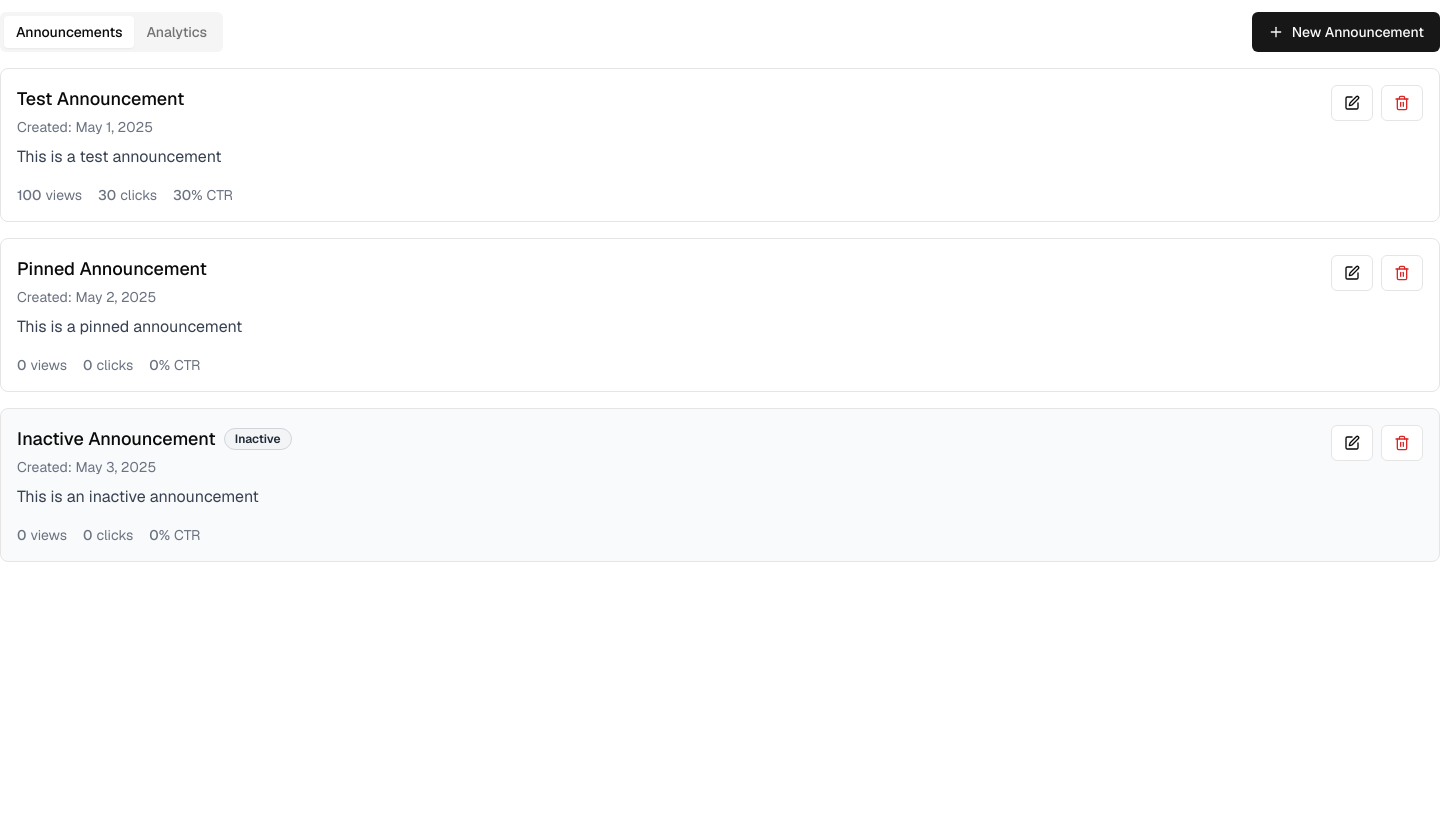
Test: AnnouncementManagement › allows deleting an announcement
Click the 3rd button at coordinates (1402, 103), box [1381,85,1423,121]
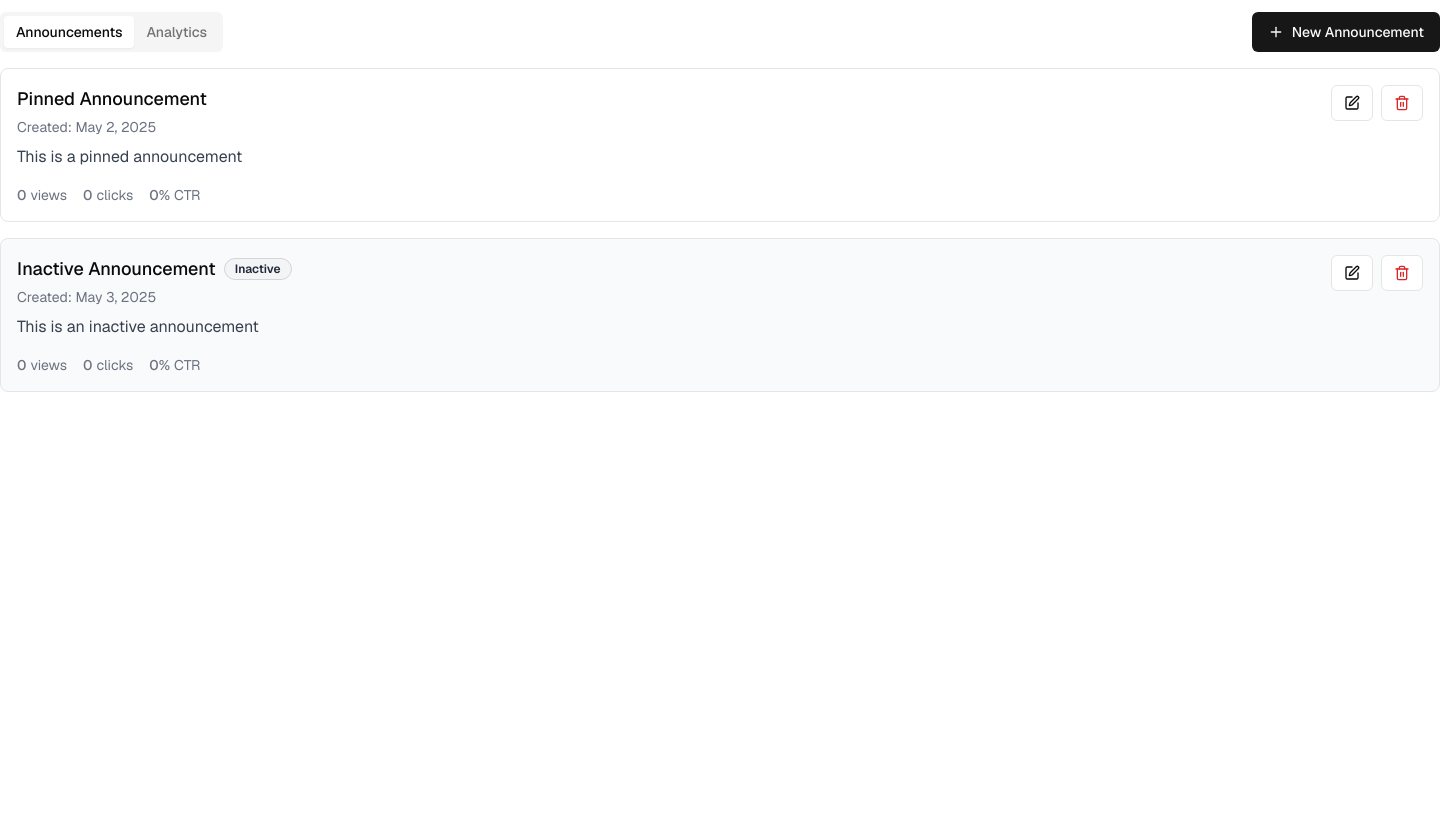
Expected: the heading "Test Announcement" is gone
